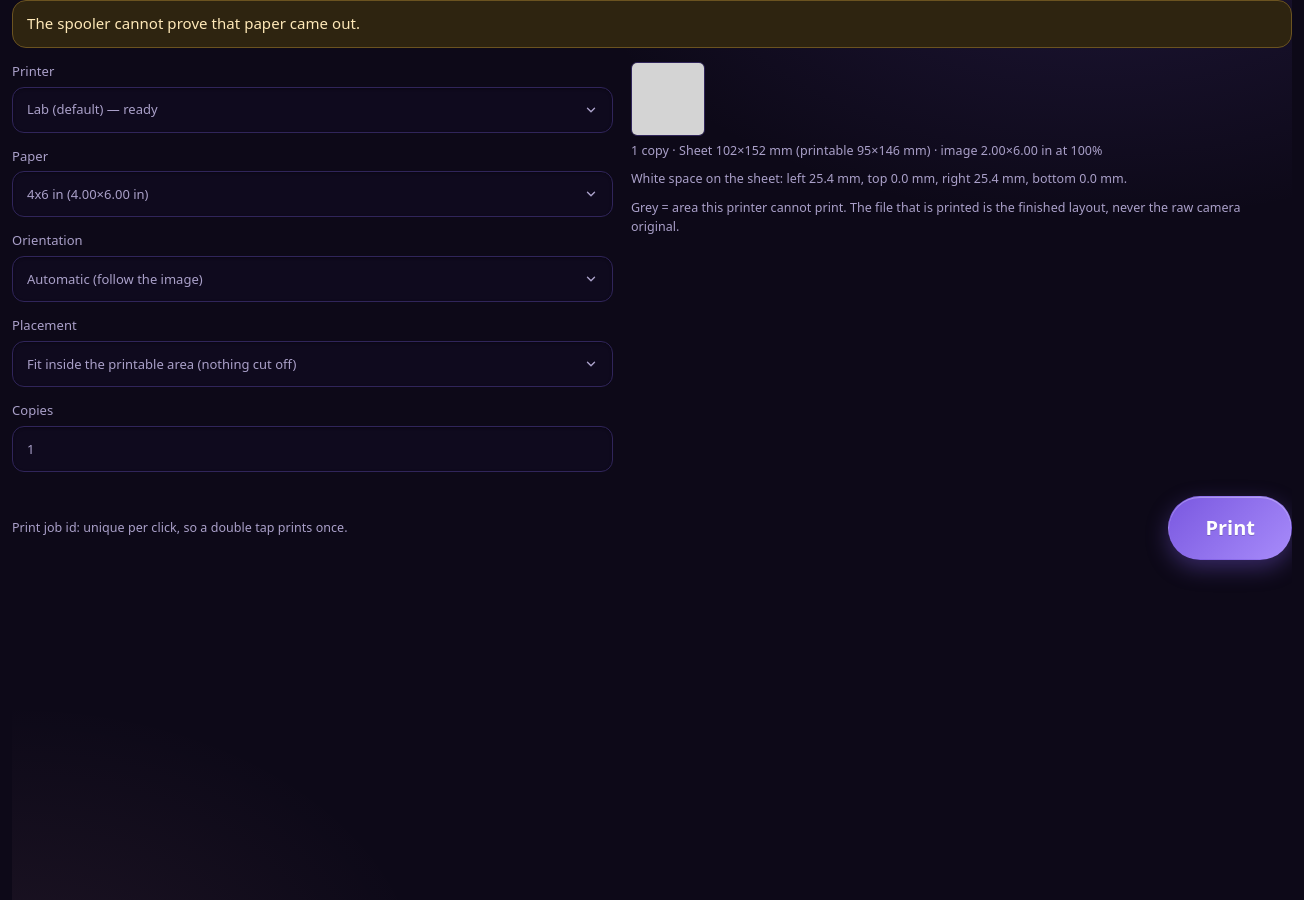
Test case: PrintPanel › shows a duplicate-print refusal without losing the panel
Click the button "Print".
click(1230, 528)  # box [1168,496,1292,560]
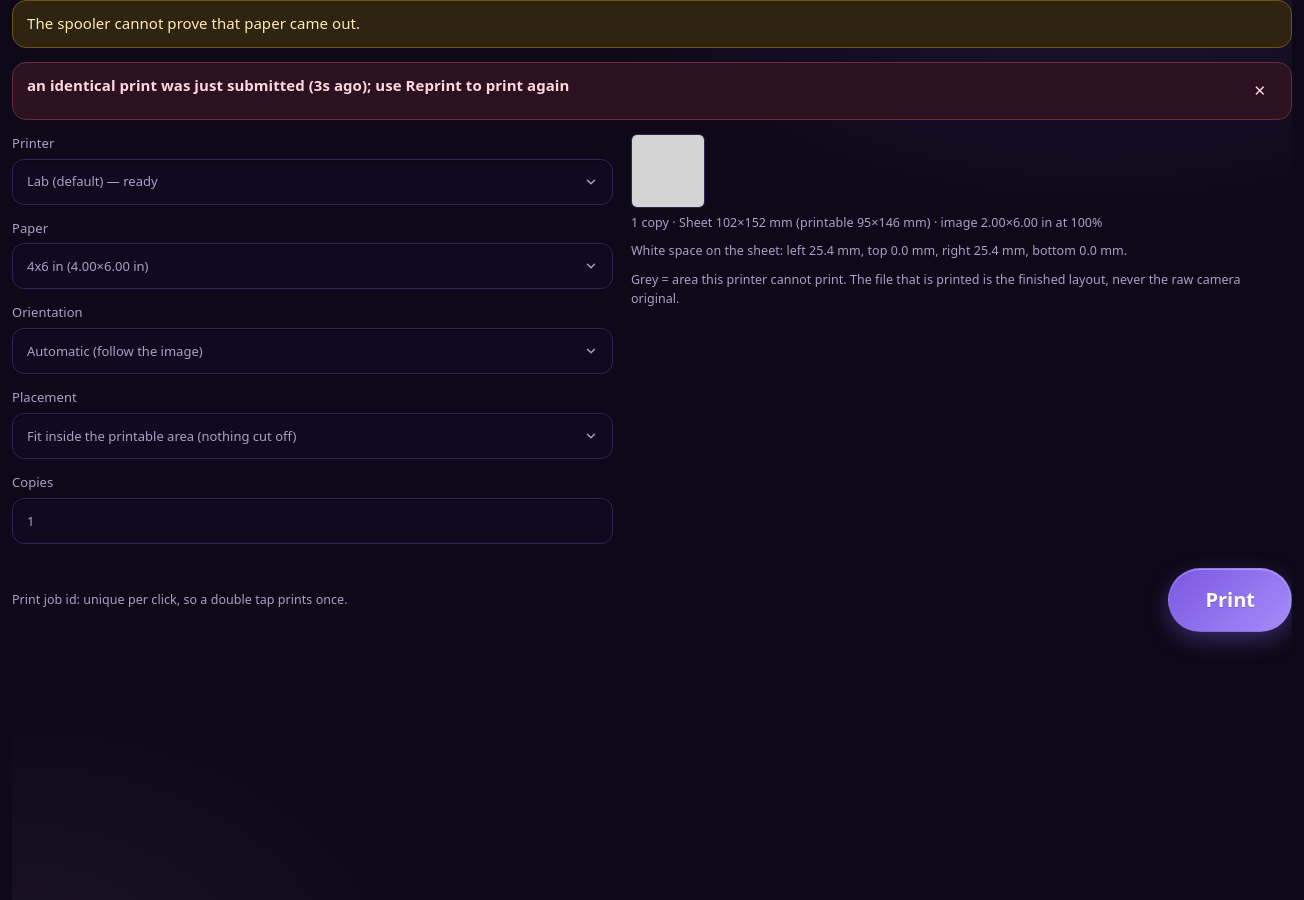
expect the message shows "identical print": met, box [27,75,569,95]
